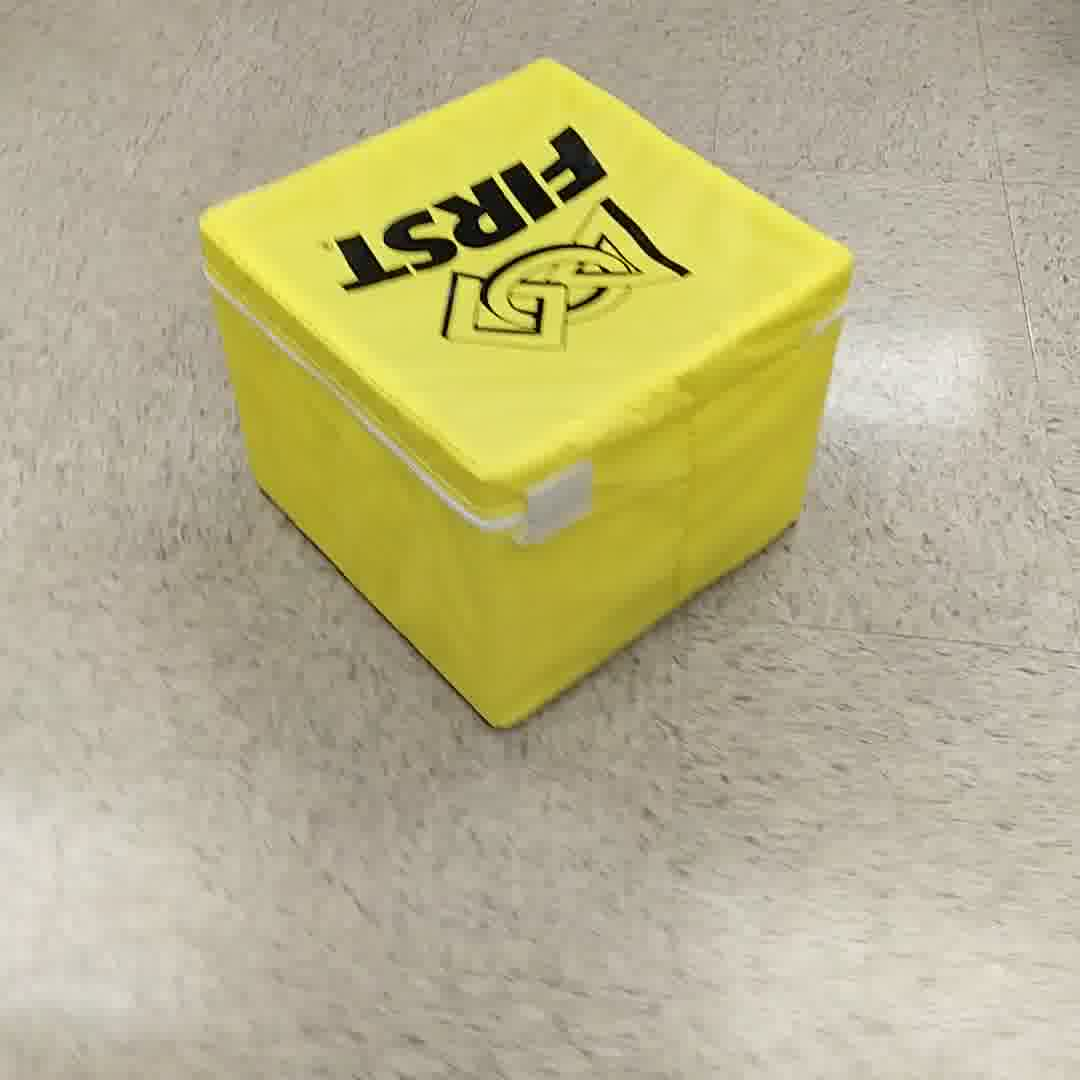box: (185, 57, 861, 740)
